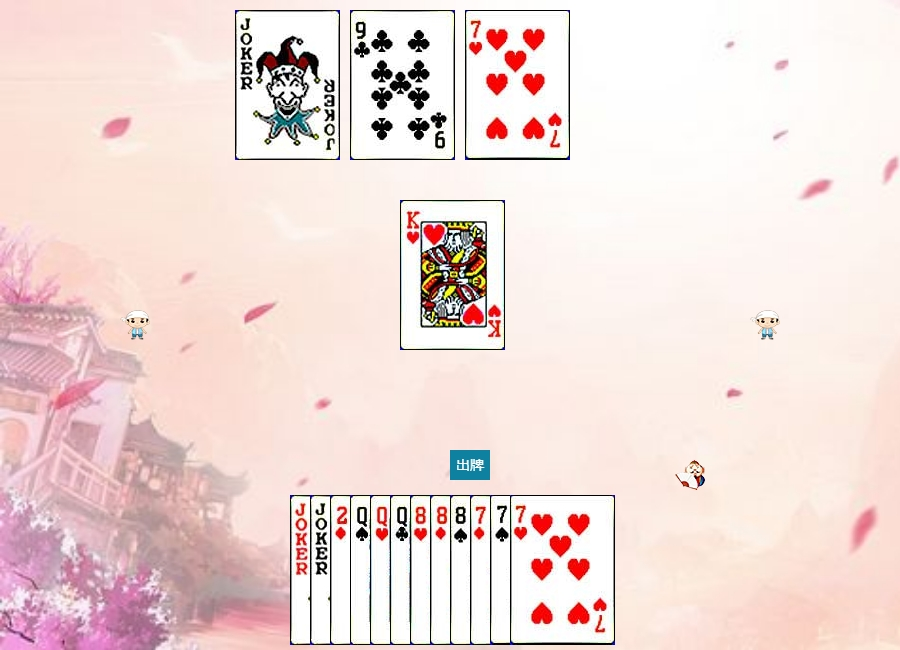12~2: (390, 495, 495, 645)
12~3: (370, 495, 475, 645)
12~4: (350, 495, 455, 645)
13~3: (400, 200, 505, 350)
15~1: (330, 495, 435, 645)
17~3: (235, 10, 340, 160), (310, 495, 415, 645)
18~4: (290, 495, 395, 645)
7~1: (470, 495, 575, 645)
7~3: (465, 10, 570, 160), (510, 495, 615, 645)
7~4: (490, 495, 595, 645)
8~1: (430, 495, 535, 645)
8~3: (410, 495, 515, 645)
8~4: (450, 495, 555, 645)
9~2: (350, 10, 455, 160)
